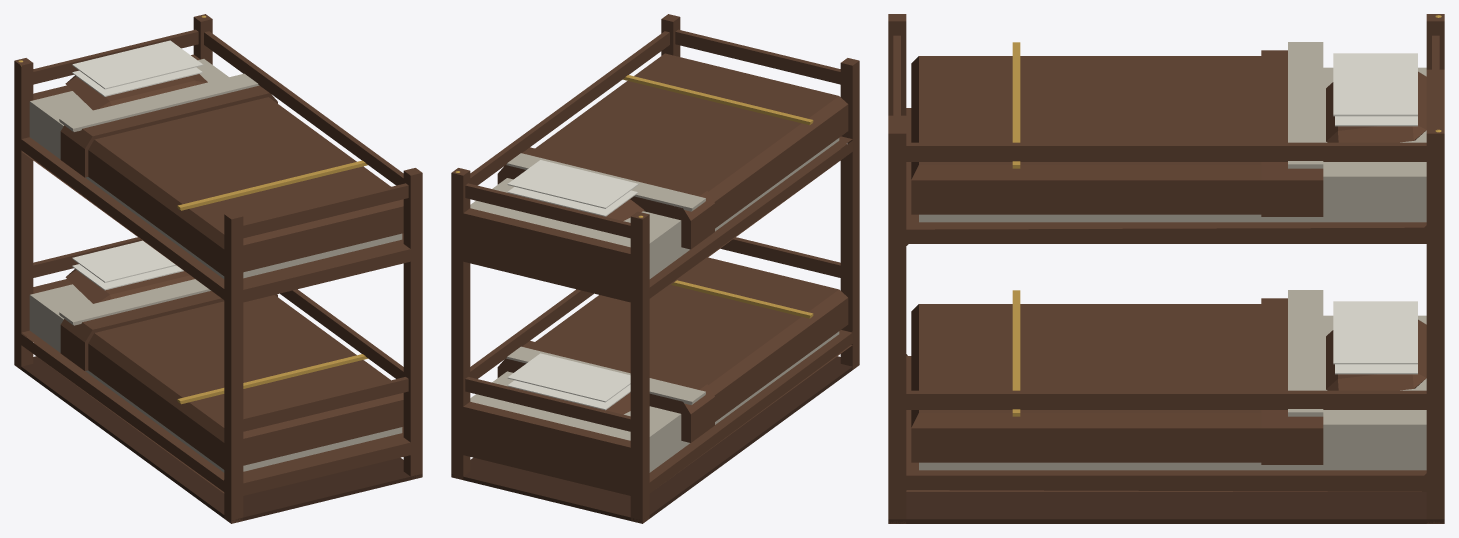
File: bedBunk.glb
The picture shows the model from 3 angles, left to right: view 1: azimuth 30°, elevation 25°; view 2: azimuth 150°, elevation 25°; view 3: azimuth 270°, elevation 25°; orthographic projection. The views are drawn at different scales.
Parts seen in each view (by area): view 1: bedBunk(Clone), coverTop, coverBottom, pillowTop, pillowBottom; view 2: bedBunk(Clone), coverTop, coverBottom, pillowTop, pillowBottom; view 3: bedBunk(Clone), coverBottom, coverTop, pillowBottom, pillowTop.
Part boxes in pixels (x1,y1,x2,y2): bedBunk(Clone): [14, 14, 422, 523]; coverTop: [59, 73, 403, 275]; coverBottom: [59, 279, 403, 469]; pillowTop: [65, 40, 207, 110]; pillowBottom: [65, 240, 194, 303]; bedBunk(Clone): [451, 14, 859, 523]; coverTop: [497, 53, 848, 249]; coverBottom: [497, 257, 848, 442]; pillowTop: [507, 160, 644, 220]; pillowBottom: [507, 353, 630, 414]; bedBunk(Clone): [888, 14, 1444, 523]; coverBottom: [911, 290, 1323, 464]; coverTop: [911, 42, 1323, 216]; pillowBottom: [1326, 301, 1426, 390]; pillowTop: [1326, 53, 1426, 142].
Bounding box in the file's own units: 0.571 × 0.85 × 1.1.
